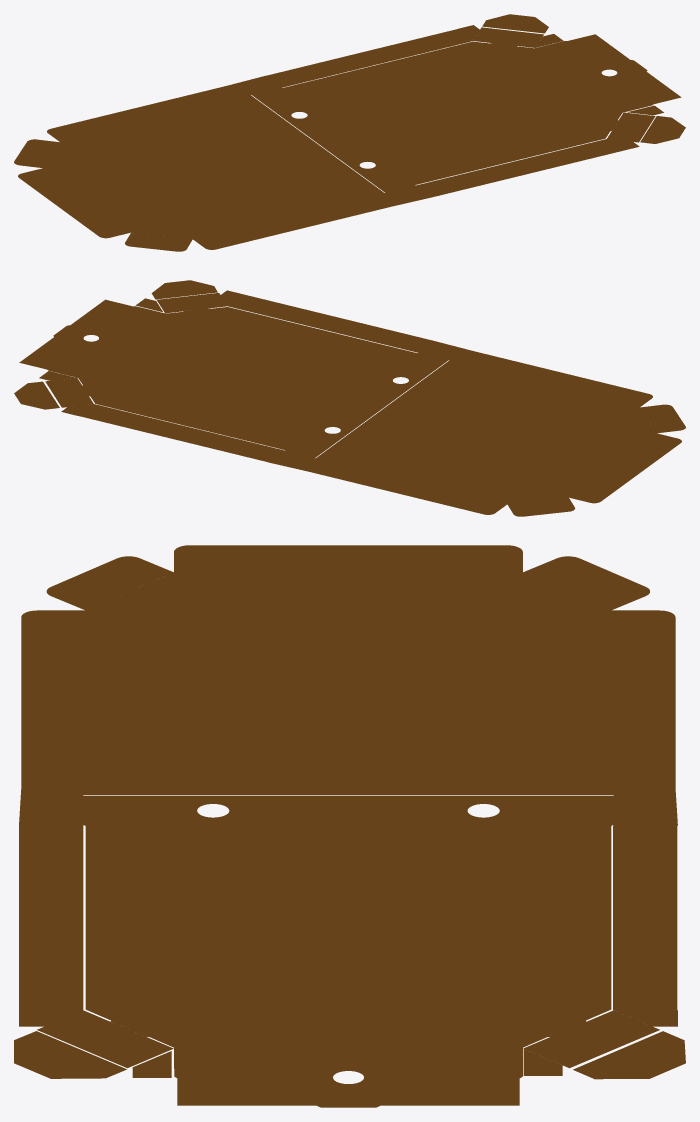
The picture shows the model from 3 angles, top to bottom: view 1: azimuth 30°, elevation 25°; view 2: azimuth 150°, elevation 25°; view 3: azimuth 270°, elevation 25°; orthographic projection. The views are drawn at different scales.
Visible parts, largest first — view 1: Curve.014, Curve.002, Curve, Curve.011, Curve.004, Curve.006, Curve.015, Curve.016, Curve.013, Curve.008, Curve.019, Curve.018 (+4 smaller); view 2: Curve.014, Curve.002, Curve.011, Curve, Curve.004, Curve.006, Curve.015, Curve.016, Curve.008, Curve.013, Curve.018, Curve.019 (+4 smaller); view 3: Curve.014, Curve.002, Curve.011, Curve, Curve.004, Curve.006, Curve.015, Curve.016, Curve.013, Curve.008, Curve.019, Curve.018 (+4 smaller).
Boxes of the visible parts, bbox=[...] form: Curve.014: bbox=[18, 95, 383, 239]; Curve.002: bbox=[281, 41, 647, 184]; Curve: bbox=[252, 88, 415, 192]; Curve.011: bbox=[536, 34, 681, 111]; Curve.004: bbox=[266, 29, 472, 87]; Curve.006: bbox=[416, 139, 622, 197]; Curve.015: bbox=[193, 193, 391, 249]; Curve.016: bbox=[47, 86, 249, 142]; Curve.013: bbox=[473, 27, 543, 47]; Curve.008: bbox=[607, 112, 655, 142]; Curve.019: bbox=[125, 232, 192, 251]; Curve.018: bbox=[14, 139, 59, 167]; Curve.014: bbox=[316, 360, 681, 504]; Curve.002: bbox=[53, 307, 417, 450]; Curve.011: bbox=[19, 299, 164, 377]; Curve: bbox=[285, 353, 448, 457]; Curve.004: bbox=[78, 404, 284, 462]; Curve.006: bbox=[228, 294, 433, 352]; Curve.015: bbox=[450, 351, 652, 407]; Curve.016: bbox=[309, 458, 506, 514]; Curve.008: bbox=[157, 293, 227, 313]; Curve.013: bbox=[45, 377, 93, 407]; Curve.018: bbox=[507, 497, 575, 516]; Curve.019: bbox=[640, 404, 685, 433]; Curve.014: bbox=[84, 545, 612, 795]; Curve.002: bbox=[84, 824, 612, 1074]; Curve.011: bbox=[174, 1048, 522, 1107]; Curve: bbox=[83, 796, 613, 825]; Curve.004: bbox=[613, 825, 677, 1010]; Curve.006: bbox=[19, 825, 83, 1010]; Curve.015: bbox=[21, 610, 85, 793]; Curve.016: bbox=[611, 610, 675, 793]; Curve.013: bbox=[523, 1010, 659, 1068]; Curve.008: bbox=[37, 1010, 173, 1068]; Curve.019: bbox=[46, 556, 173, 610]; Curve.018: bbox=[523, 556, 649, 610].
Bounding box in the file's own units: 0.2269 × 0 × 0.1146.
